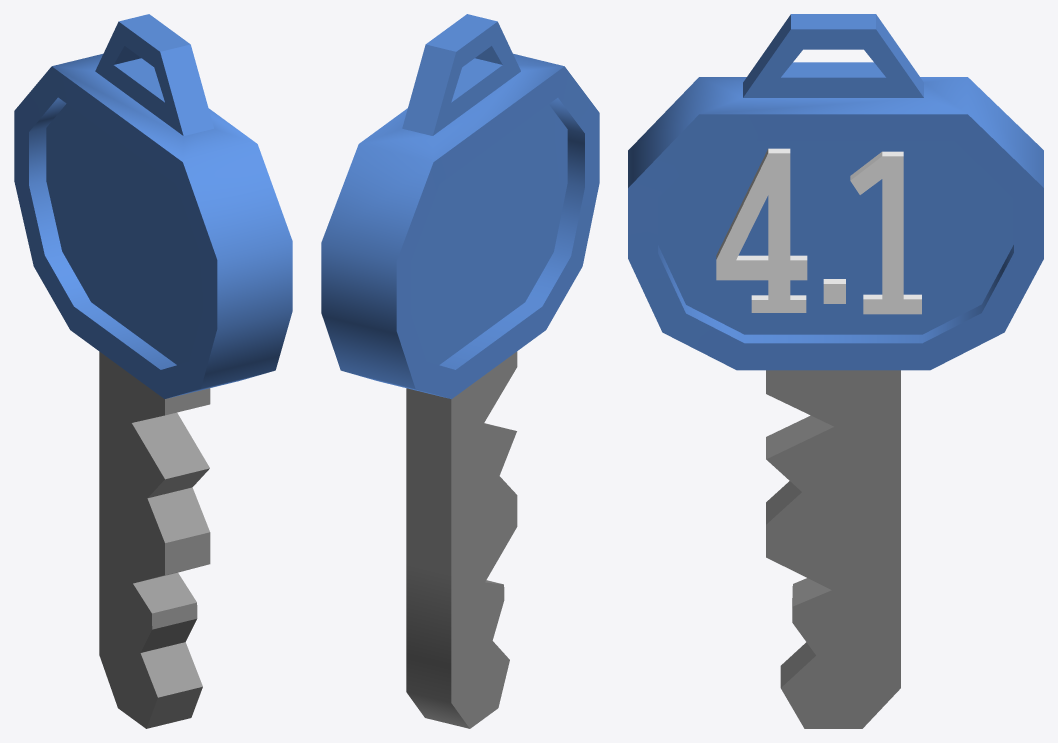
The model's file is Key_4.1.fbx.
3 views of the same model, side by side, from view 1: azimuth 30°, elevation 25°; view 2: azimuth 150°, elevation 25°; view 3: azimuth 270°, elevation 25° (orthographic). The views are drawn at different scales.
Parts seen in each view (by area): view 1: Cube; view 2: Cube; view 3: Cube.
Boxes of the visible parts, bbox=[...] form: Cube: bbox=[14, 14, 292, 728]; Cube: bbox=[321, 14, 599, 728]; Cube: bbox=[628, 14, 1043, 728].
Bounding box in the file's own units: 52.12 × 449 × 243.
